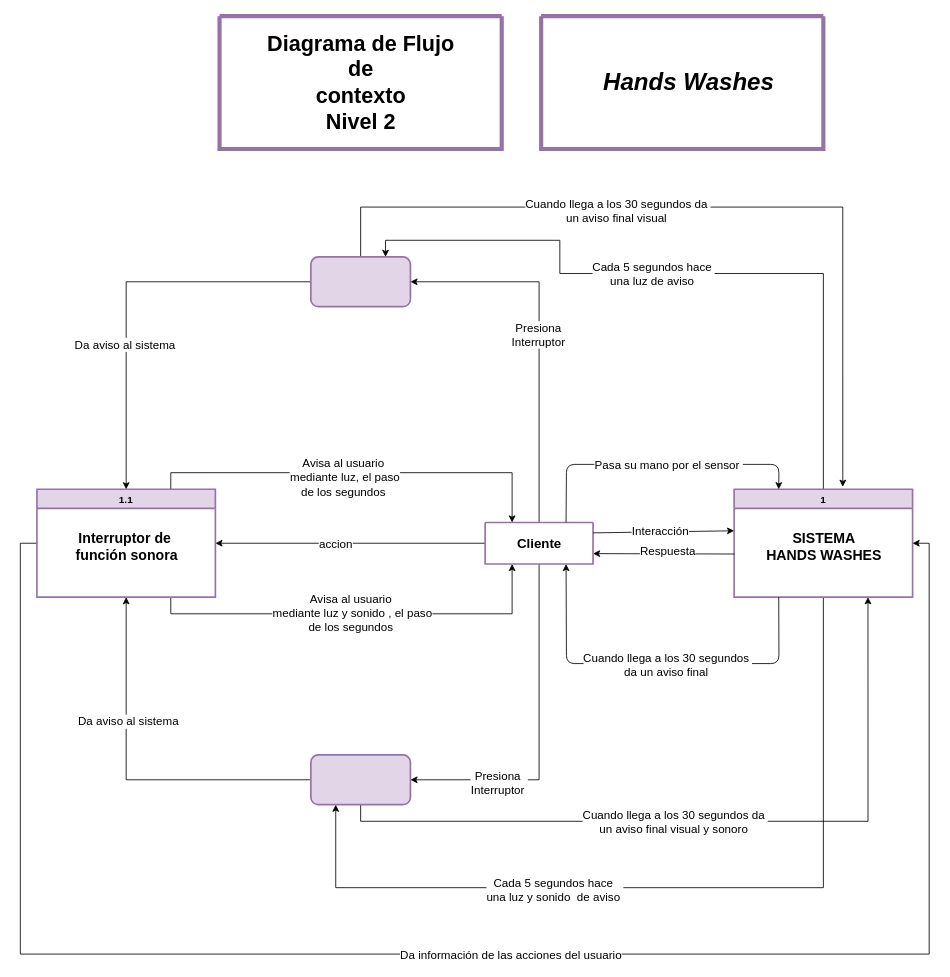
Some shapes in this 950 by 977 pixel diagram are drawn without their labels. Here are the shapes that lost their labels. From the top down, the box of each, then its label:
(310, 256, 411, 307): Activa
(310, 754, 411, 805): Desactivado
